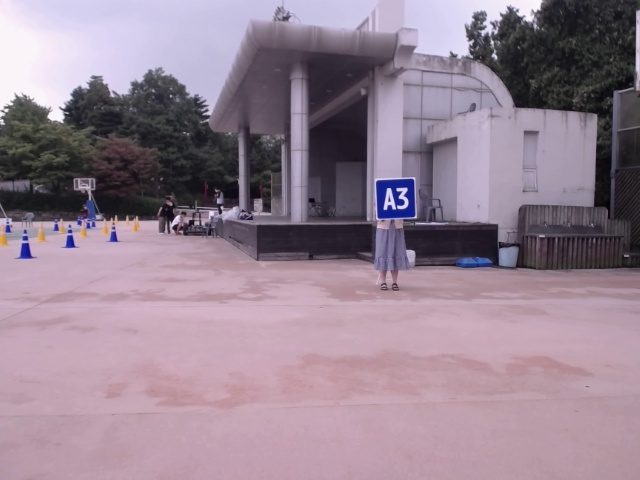delivery_a3: (375, 178, 417, 219)
